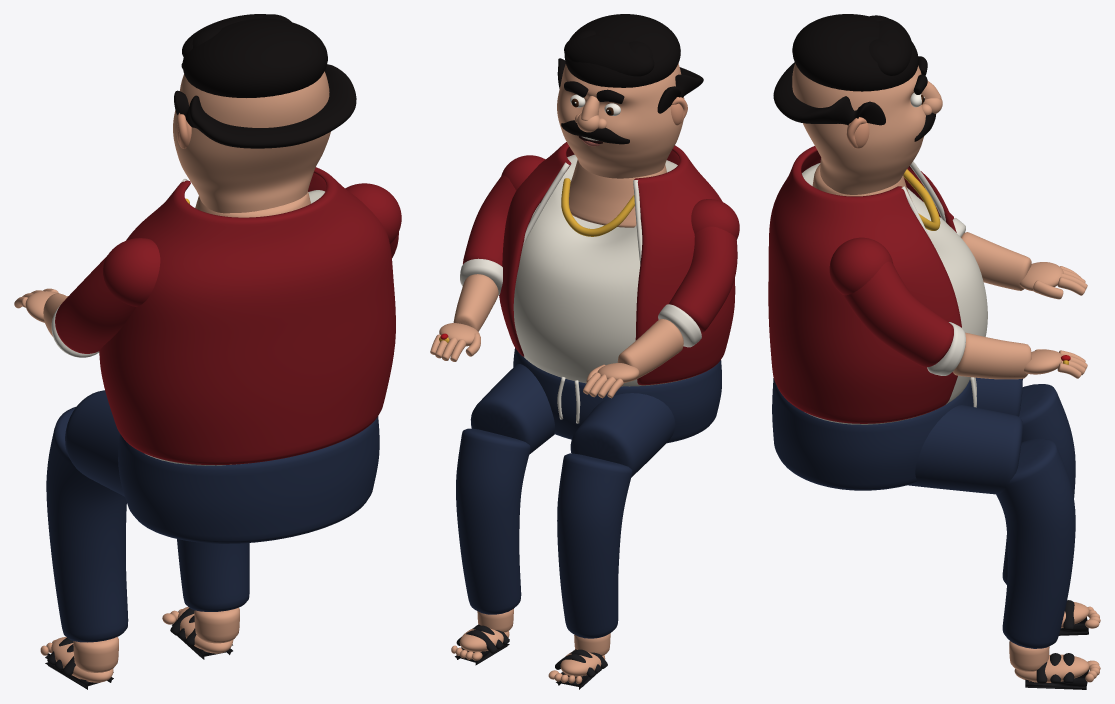
The model's file is sabri_varyant01.glb.
3 renders of one model, left to right at view 1: azimuth 30°, elevation 25°; view 2: azimuth 150°, elevation 25°; view 3: azimuth 270°, elevation 25°, orthographic. The views are drawn at different scales.
Parts seen in each view (by area): view 1: TrackJacket, PelvisPants, CalfL, FaceSkull, HairTopCap, HairHorseshoe, CalfR, JacketSleeveL, ThighL, ShoulderCapL, ShoulderCapR, AnkleR (+4 smaller); view 2: Atlet, TrackJacket, CalfR, CalfL, FaceSkull, PelvisPants, ThighL, ThighR, HairTopCap, JacketSleeveL, ChestNeckBase, JacketSleeveR (+17 smaller); view 3: TrackJacket, CalfR, PelvisPants, FaceSkull, ThighR, HairTopCap, JacketSleeveR, Atlet, CalfL, ForearmR, HairHorseshoe, ShoulderCapR (+11 smaller).
Part boxes in pixels (x1,y1,x2,y2): TrackJacket: (99,167,395,465); PelvisPants: (118,416,379,543); CalfL: (46,407,128,642); FaceSkull: (173,71,330,213); HairTopCap: (182,18,327,97); HairHorseshoe: (174,64,356,148); CalfR: (177,539,249,611); JacketSleeveL: (55,255,136,353); ThighL: (65,390,124,496); ShoulderCapL: (103,238,160,306); ShoulderCapR: (345,183,401,243); AnkleR: (194,607,239,643); Atlet: (513,154,696,386); TrackJacket: (499,142,735,385); CalfR: (456,428,530,614); CalfL: (557,453,632,638); FaceSkull: (557,63,684,178); PelvisPants: (513,348,721,443); ThighL: (570,393,675,477); ThighR: (470,364,554,454); HairTopCap: (564,14,680,87); JacketSleeveL: (669,226,737,332); ChestNeckBase: (569,159,666,227); JacketSleeveR: (463,175,516,266); TrackJacket: (768,146,961,423); CalfR: (996,439,1075,648); PelvisPants: (772,378,973,490); FaceSkull: (792,63,925,194); ThighR: (908,405,1022,494); HairTopCap: (792,14,918,91); JacketSleeveR: (843,261,953,367); Atlet: (802,163,987,424); CalfL: (1002,384,1075,584); ForearmR: (953,332,1031,379); HairHorseshoe: (773,62,885,125); ShoulderCapR: (829,237,893,295).
Size of the model in its own units: 0.6372 by 1.38 by 0.6573.
